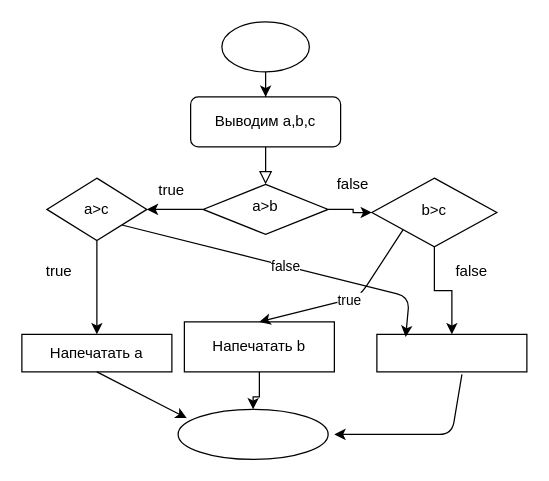
Image size: 549x481. Some labels were removed from this diagram. The centre of each missing label's shape, as x and y in pixels:
Конец: the point at 252,433
Напечатать с: the point at 451,352
Начало: the point at 265,46
